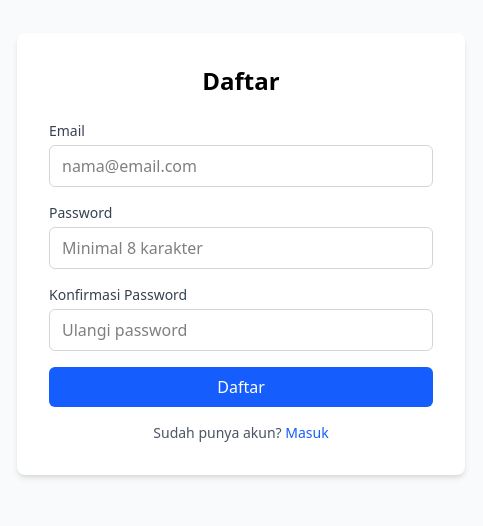
Test: RegisterForm › shows error when passwords do not match
Type "test@test.com" into the field labelled "Email" at (241, 166), box [49, 145, 433, 187]
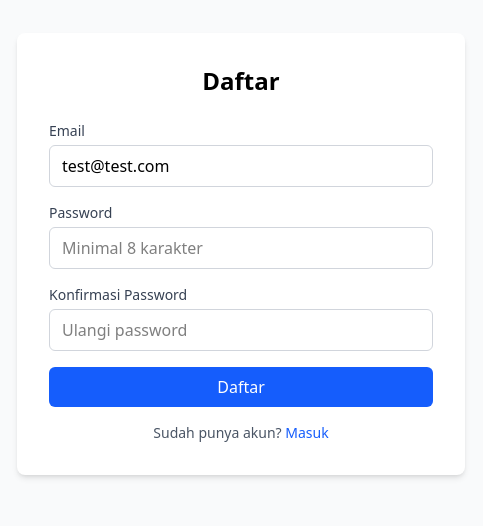
Type "password123" into the password field labelled "Password" at (241, 248), box [49, 227, 433, 269]
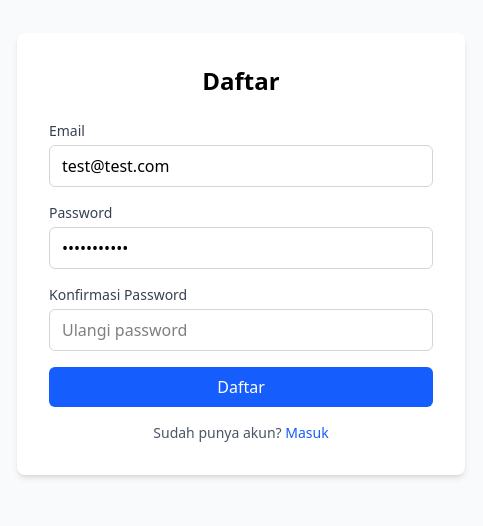
Type "different" into the password field labelled "Konfirmasi Password" at (241, 330), box [49, 309, 433, 351]
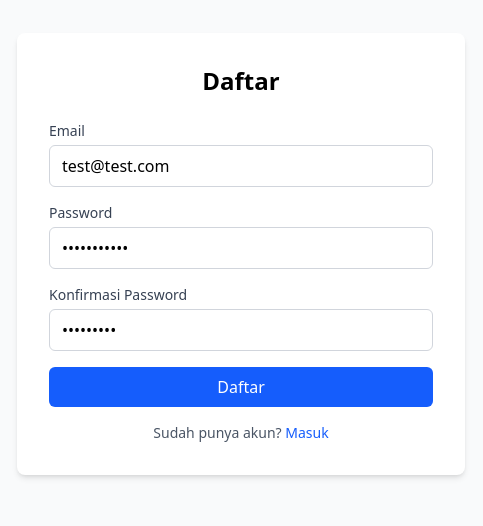
Click the button "Daftar" at (241, 387), box [49, 367, 433, 407]
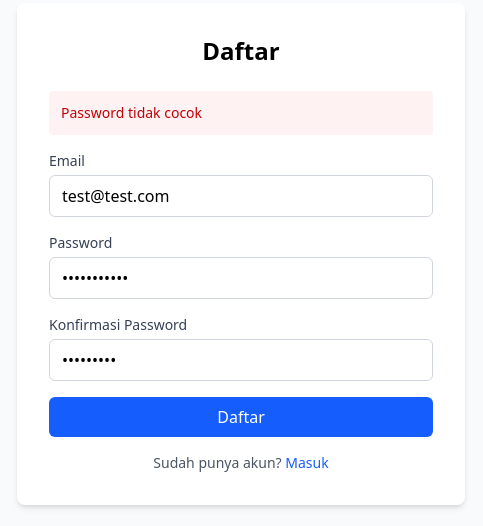
Now the message reads "Password tidak cocok", box [61, 103, 202, 122]
